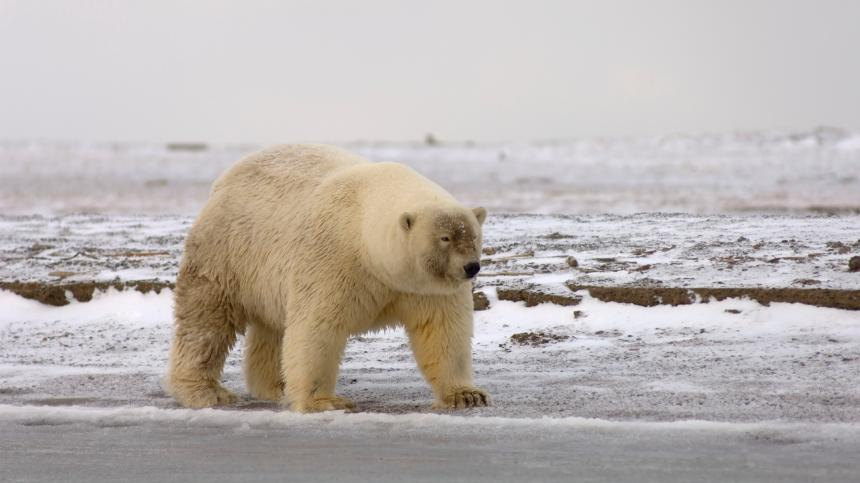Polar Bear: (155, 112, 556, 481)
